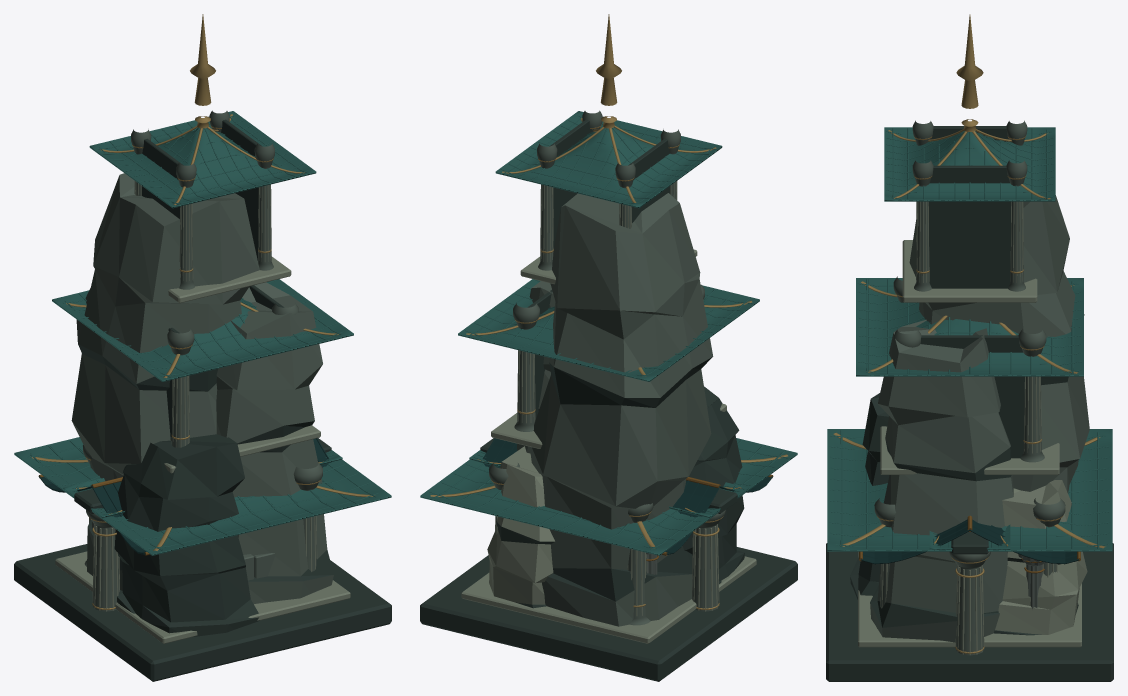
Rendered from spirit_ruins.glb.
3 views of the same model, side by side, from view 1: azimuth 30°, elevation 25°; view 2: azimuth 150°, elevation 25°; view 3: azimuth 270°, elevation 25° (orthographic). The views are drawn at different scales.
Visible parts, largest first — view 1: Rock_stone, Watchtower_roof, Rock_dark, Watchtower_dark, Watchtower_pale, Watchtower_stone, Watchtower_metal, Gate_stone, Landmark, Gate_pale, Gate_roof; view 2: Rock_stone, Watchtower_roof, Watchtower_dark, Rock_dark, Watchtower_pale, Rock_pale, Watchtower_stone, Watchtower_metal, Landmark, Gate_stone, Gate_pale, Gate_roof; view 3: Rock_stone, Watchtower_roof, Watchtower_dark, Watchtower_pale, Watchtower_stone, Rock_pale, Rock_dark, Watchtower_metal, Landmark, Gate_stone, Gate_pale, Gate_dark (+1 smaller).
Part boxes in pixels (x1,y1,x2,y2): Rock_stone: [71, 173, 333, 603]; Watchtower_roof: [14, 111, 391, 555]; Rock_dark: [78, 344, 333, 636]; Watchtower_dark: [14, 119, 391, 681]; Watchtower_pale: [55, 181, 350, 643]; Watchtower_stone: [83, 110, 322, 591]; Watchtower_metal: [32, 14, 374, 550]; Gate_stone: [86, 510, 119, 611]; Landmark: [38, 438, 331, 555]; Gate_pale: [92, 524, 119, 611]; Gate_roof: [63, 450, 342, 517]; Rock_stone: [517, 193, 713, 626]; Watchtower_roof: [420, 111, 797, 555]; Watchtower_dark: [420, 119, 797, 681]; Rock_dark: [496, 357, 744, 608]; Watchtower_pale: [461, 181, 756, 643]; Rock_pale: [487, 446, 554, 604]; Watchtower_stone: [489, 110, 704, 625]; Watchtower_metal: [430, 14, 787, 607]; Landmark: [482, 438, 773, 574]; Gate_stone: [692, 510, 725, 611]; Gate_pale: [692, 524, 719, 611]; Gate_roof: [469, 450, 748, 517]; Rock_stone: [870, 195, 1089, 647]; Watchtower_roof: [827, 127, 1112, 551]; Watchtower_dark: [826, 126, 1113, 681]; Watchtower_pale: [858, 201, 1081, 647]; Watchtower_stone: [874, 120, 1065, 628]; Rock_pale: [995, 480, 1087, 634]; Rock_dark: [850, 376, 1078, 635]; Watchtower_metal: [833, 14, 1105, 548]; Landmark: [859, 515, 1080, 609]; Gate_stone: [949, 551, 990, 655]; Gate_pale: [955, 565, 984, 655]; Gate_dark: [951, 531, 988, 554].
Bounding box in the file's own units: 12 × 28.6 × 12.
